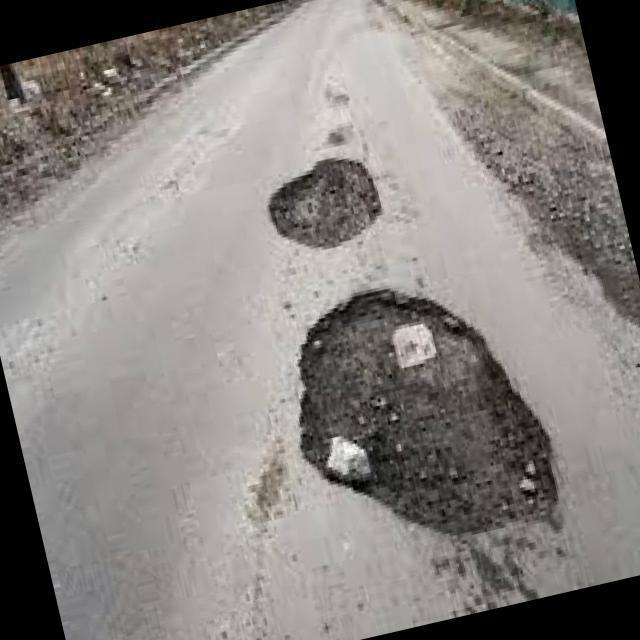Pothole: (296, 284, 575, 610), (269, 157, 381, 252)
